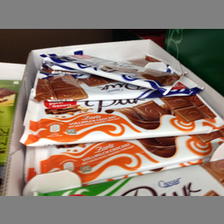chocolate: (16, 128, 224, 191), (19, 97, 224, 146), (40, 50, 186, 95)
